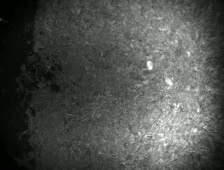corn: (145, 58, 154, 72)
